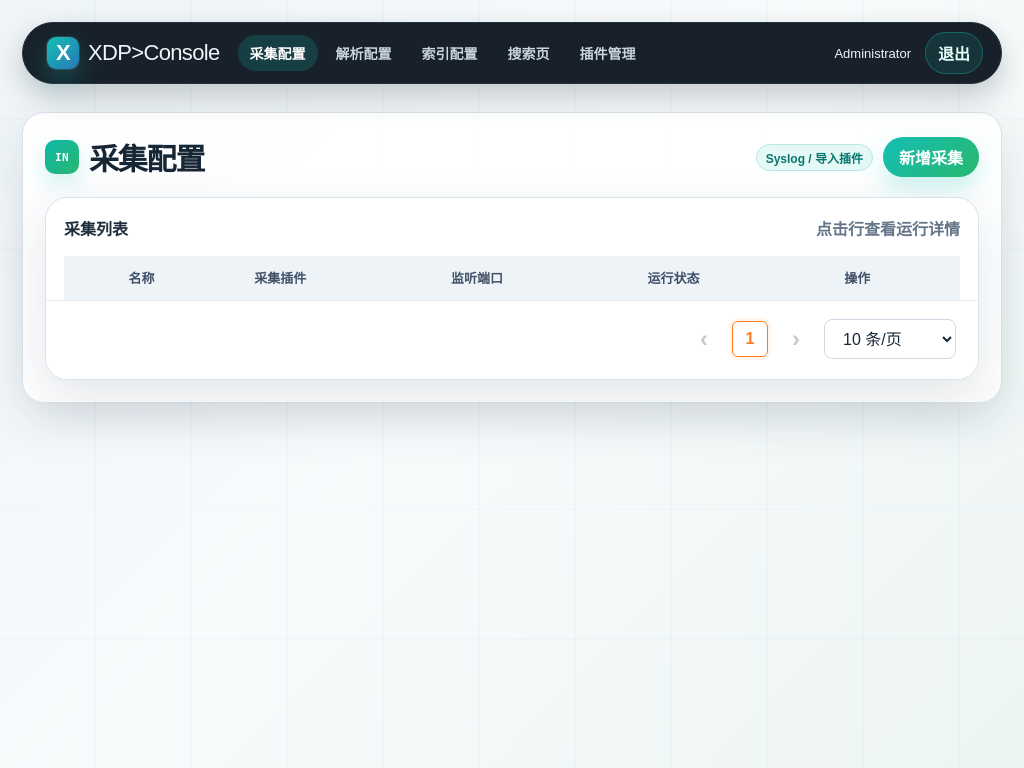
Test: XDP collection config API integration › blocks incomplete Syslog required fields before checking port or saving
Click the button with test id "show-input-form": click(931, 157) [883,137,979,177]
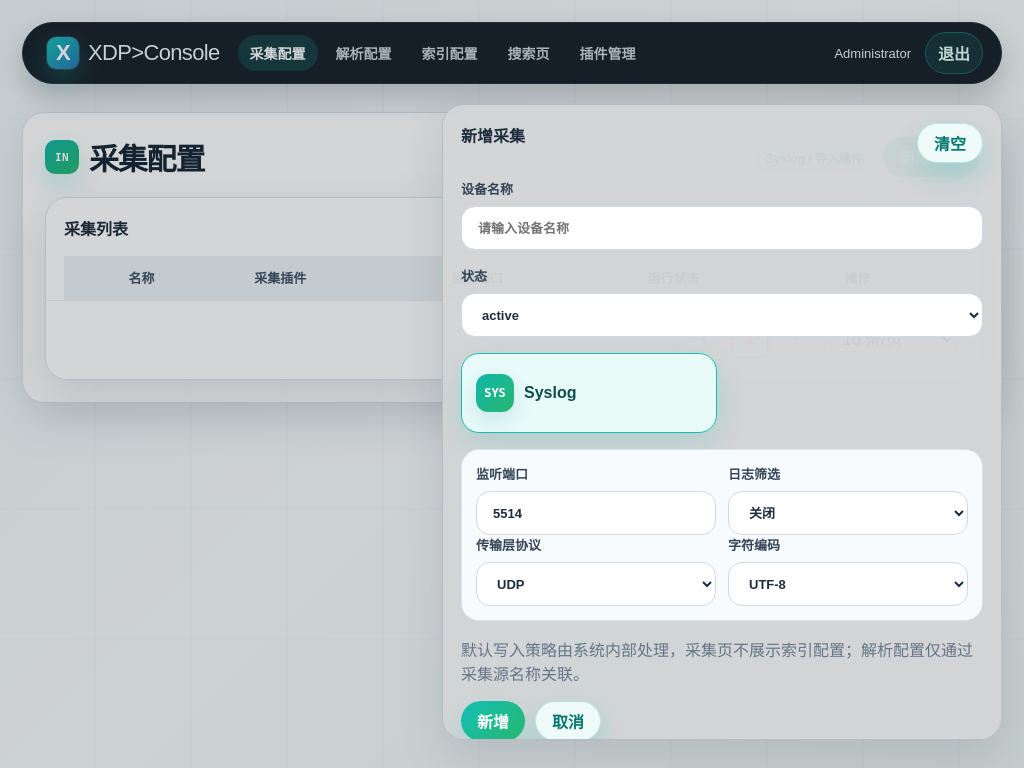
In the field with placeholder "请输入设备名称": (722, 228) [461,206,983,250], type "Bad Syslog"
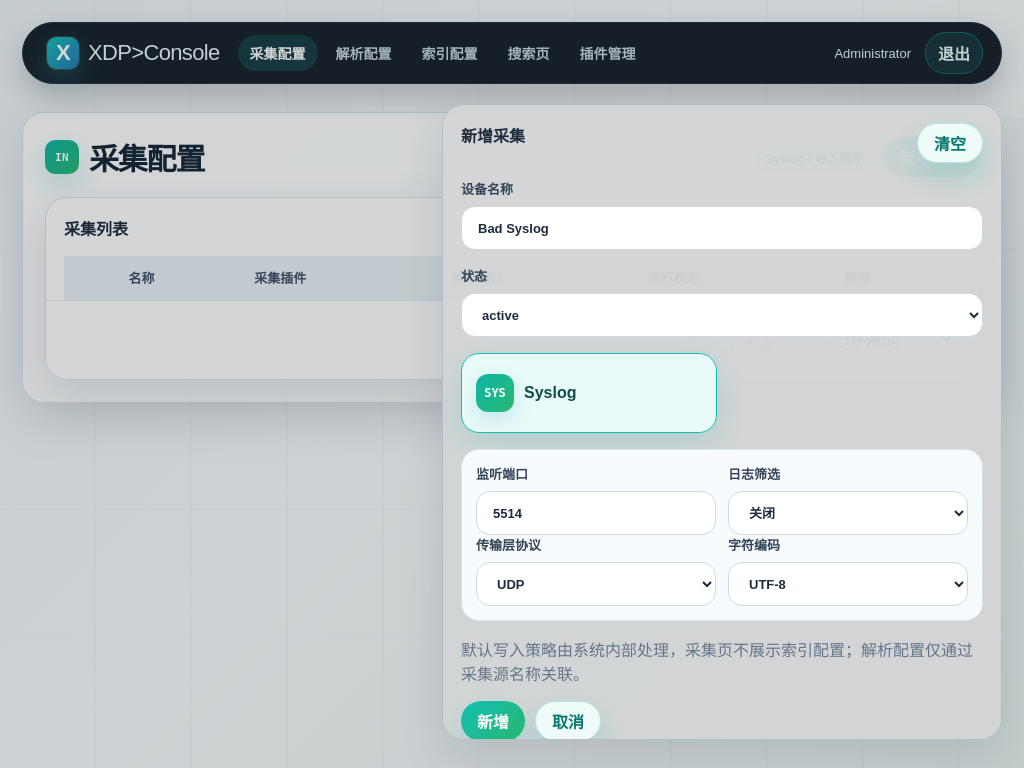
Clear the field with placeholder "5514": (596, 513) [476,491,716,535]
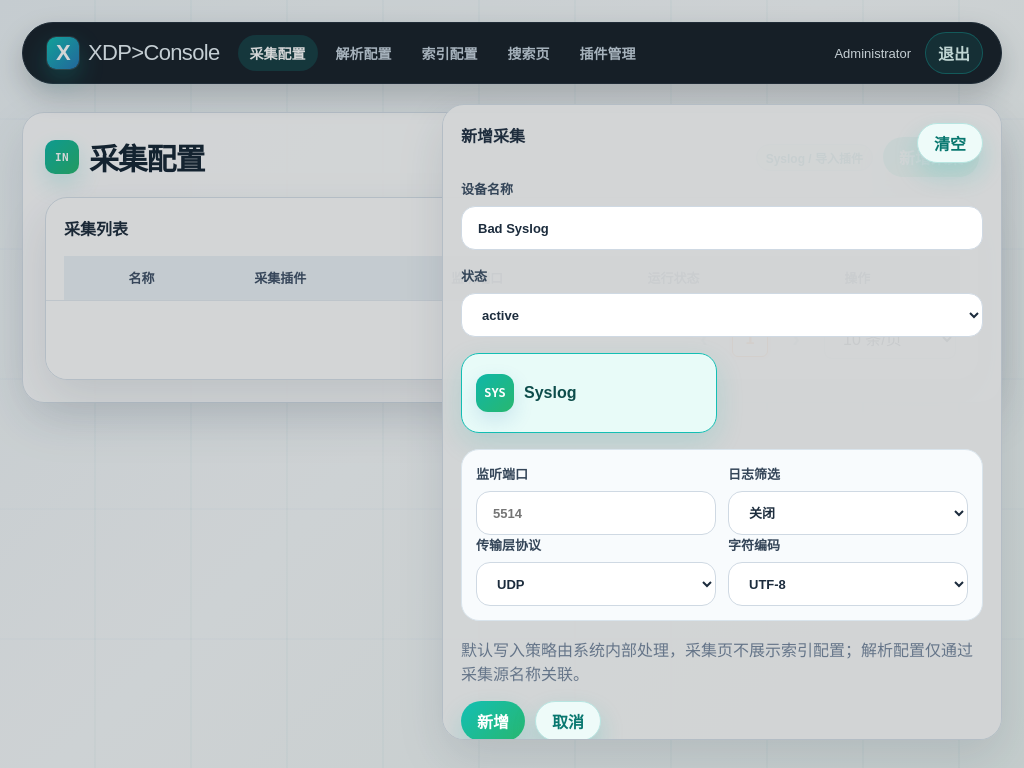
Submit the form, box [461,179,983,741]
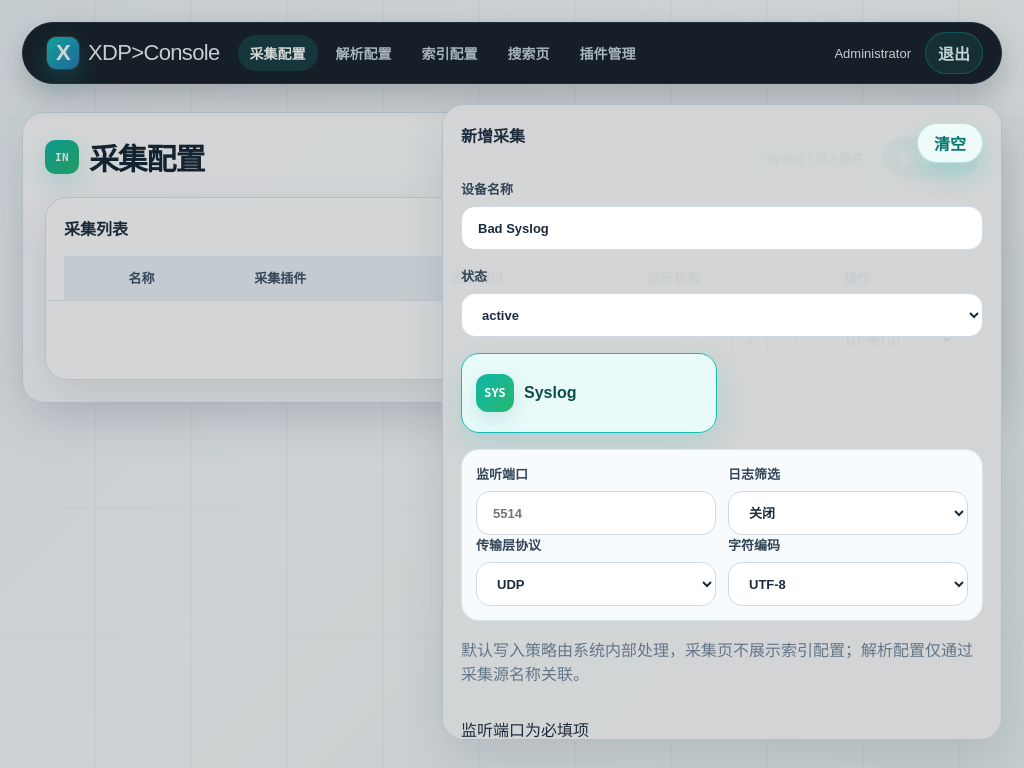
Result: the text with test id "input-form-error" reads "监听端口为必填项" at [461,722,589,739]
